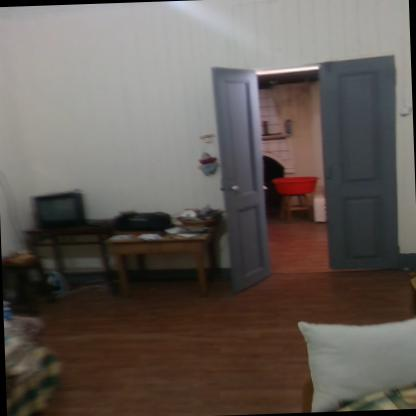open: (203, 47, 412, 301)
